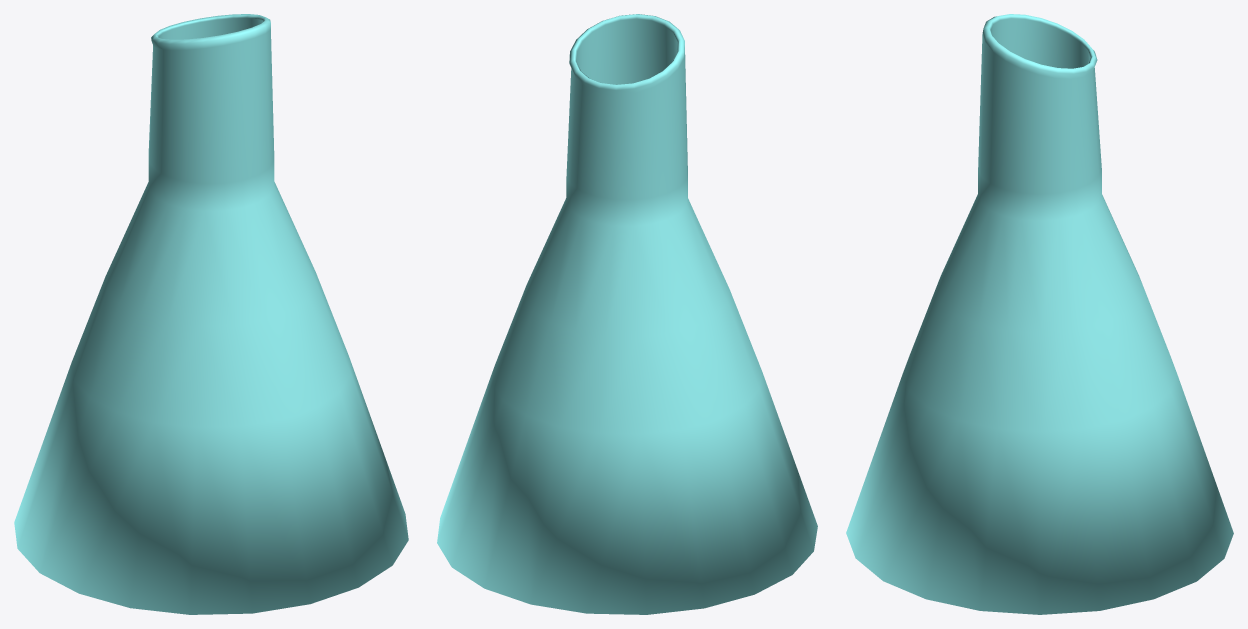
Rendered from LabDesk_Object_EnlenmeyerFlaskEmpty.fbx.
3 renders of one model, left to right at view 1: azimuth 30°, elevation 25°; view 2: azimuth 150°, elevation 25°; view 3: azimuth 270°, elevation 25°, orthographic. The views are drawn at different scales.
Visible parts, largest first — view 1: polySurface3; view 2: polySurface3; view 3: polySurface3.
Boxes of the visible parts, left/top/right/bottom form: polySurface3: left=14, top=14, right=408, bottom=614; polySurface3: left=437, top=14, right=817, bottom=614; polySurface3: left=846, top=14, right=1233, bottom=614.
Size of the model in its own units: 5.68 by 8.2 by 5.69.
